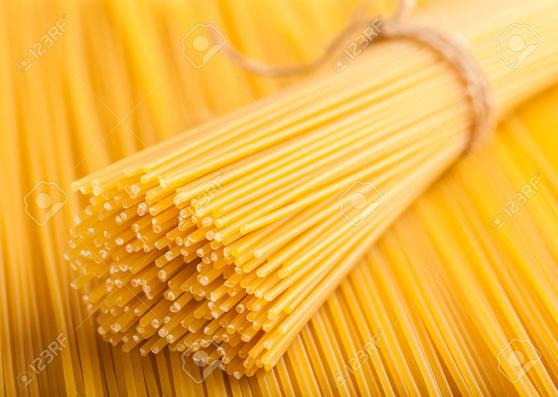spaghetti: (60, 82, 461, 382)
